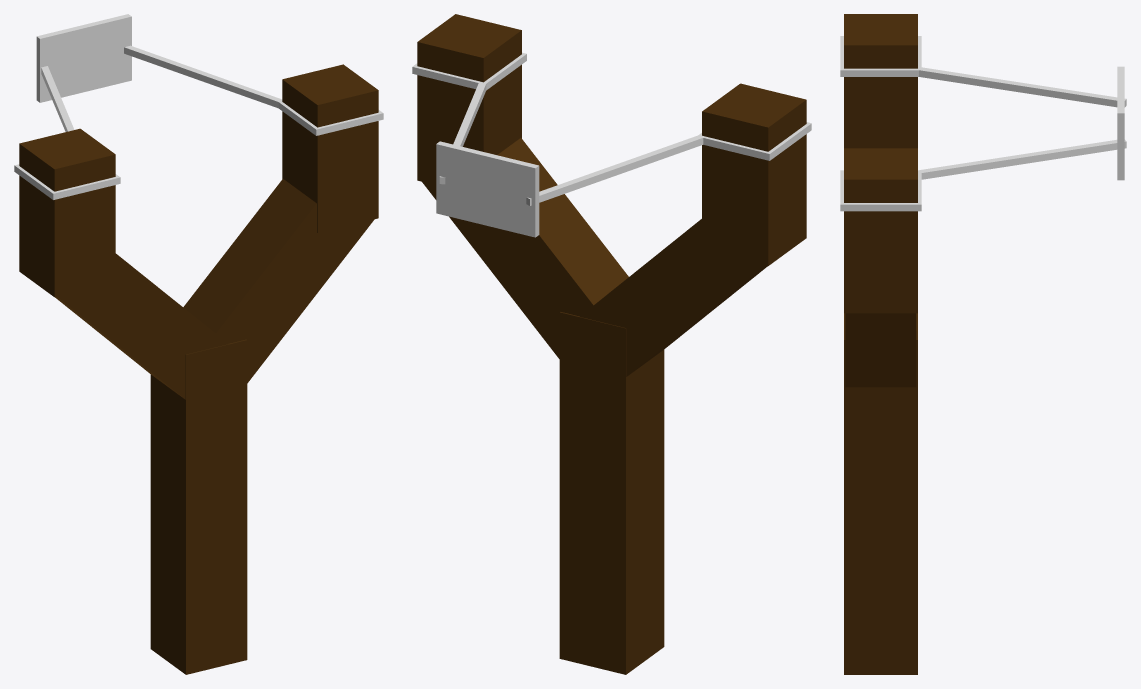
Rendered from SlingShotB.fbx.
3 renders of one model, left to right at view 1: azimuth 30°, elevation 25°; view 2: azimuth 150°, elevation 25°; view 3: azimuth 270°, elevation 25°, orthographic. The views are drawn at different scales.
Visible parts, largest first — view 1: Cube.001, Cube.010; view 2: Cube.001, Cube.010; view 3: Cube.001, Cube.010.
Boxes of the visible parts, <box> form: Cube.001: <box>19,64,378,674</box>; Cube.010: <box>14,14,383,199</box>; Cube.001: <box>417,14,806,674</box>; Cube.010: <box>412,52,811,237</box>; Cube.001: <box>844,14,917,674</box>; Cube.010: <box>840,36,1126,211</box>.
Size of the model in its own units: 108 by 170 by 77.53.
